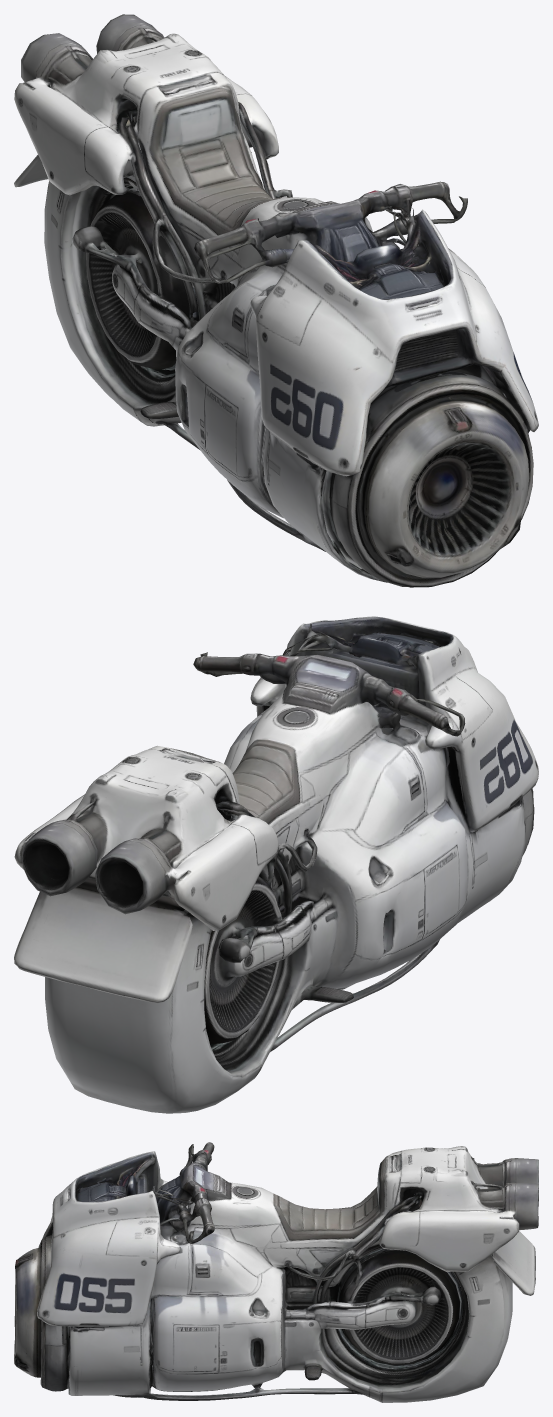
File: hoverbike.glb
The picture shows the model from 3 angles, top to bottom: view 1: azimuth 30°, elevation 25°; view 2: azimuth 150°, elevation 25°; view 3: azimuth 270°, elevation 25°; orthographic projection. The views are drawn at different scales.
Parts seen in each view (by area): view 1: tripo_node_25ab5252-2170-4802-b4a2-b0019d2d5a53; view 2: tripo_node_25ab5252-2170-4802-b4a2-b0019d2d5a53; view 3: tripo_node_25ab5252-2170-4802-b4a2-b0019d2d5a53.
Boxes of the visible parts, <box> form: tripo_node_25ab5252-2170-4802-b4a2-b0019d2d5a53: <box>14,14,538,587</box>; tripo_node_25ab5252-2170-4802-b4a2-b0019d2d5a53: <box>14,616,538,1113</box>; tripo_node_25ab5252-2170-4802-b4a2-b0019d2d5a53: <box>14,1142,538,1402</box>.
Bounding box in the file's own units: 0.3903 × 0.4764 × 0.9758.
Materials: 1 (1 with a texture image).
